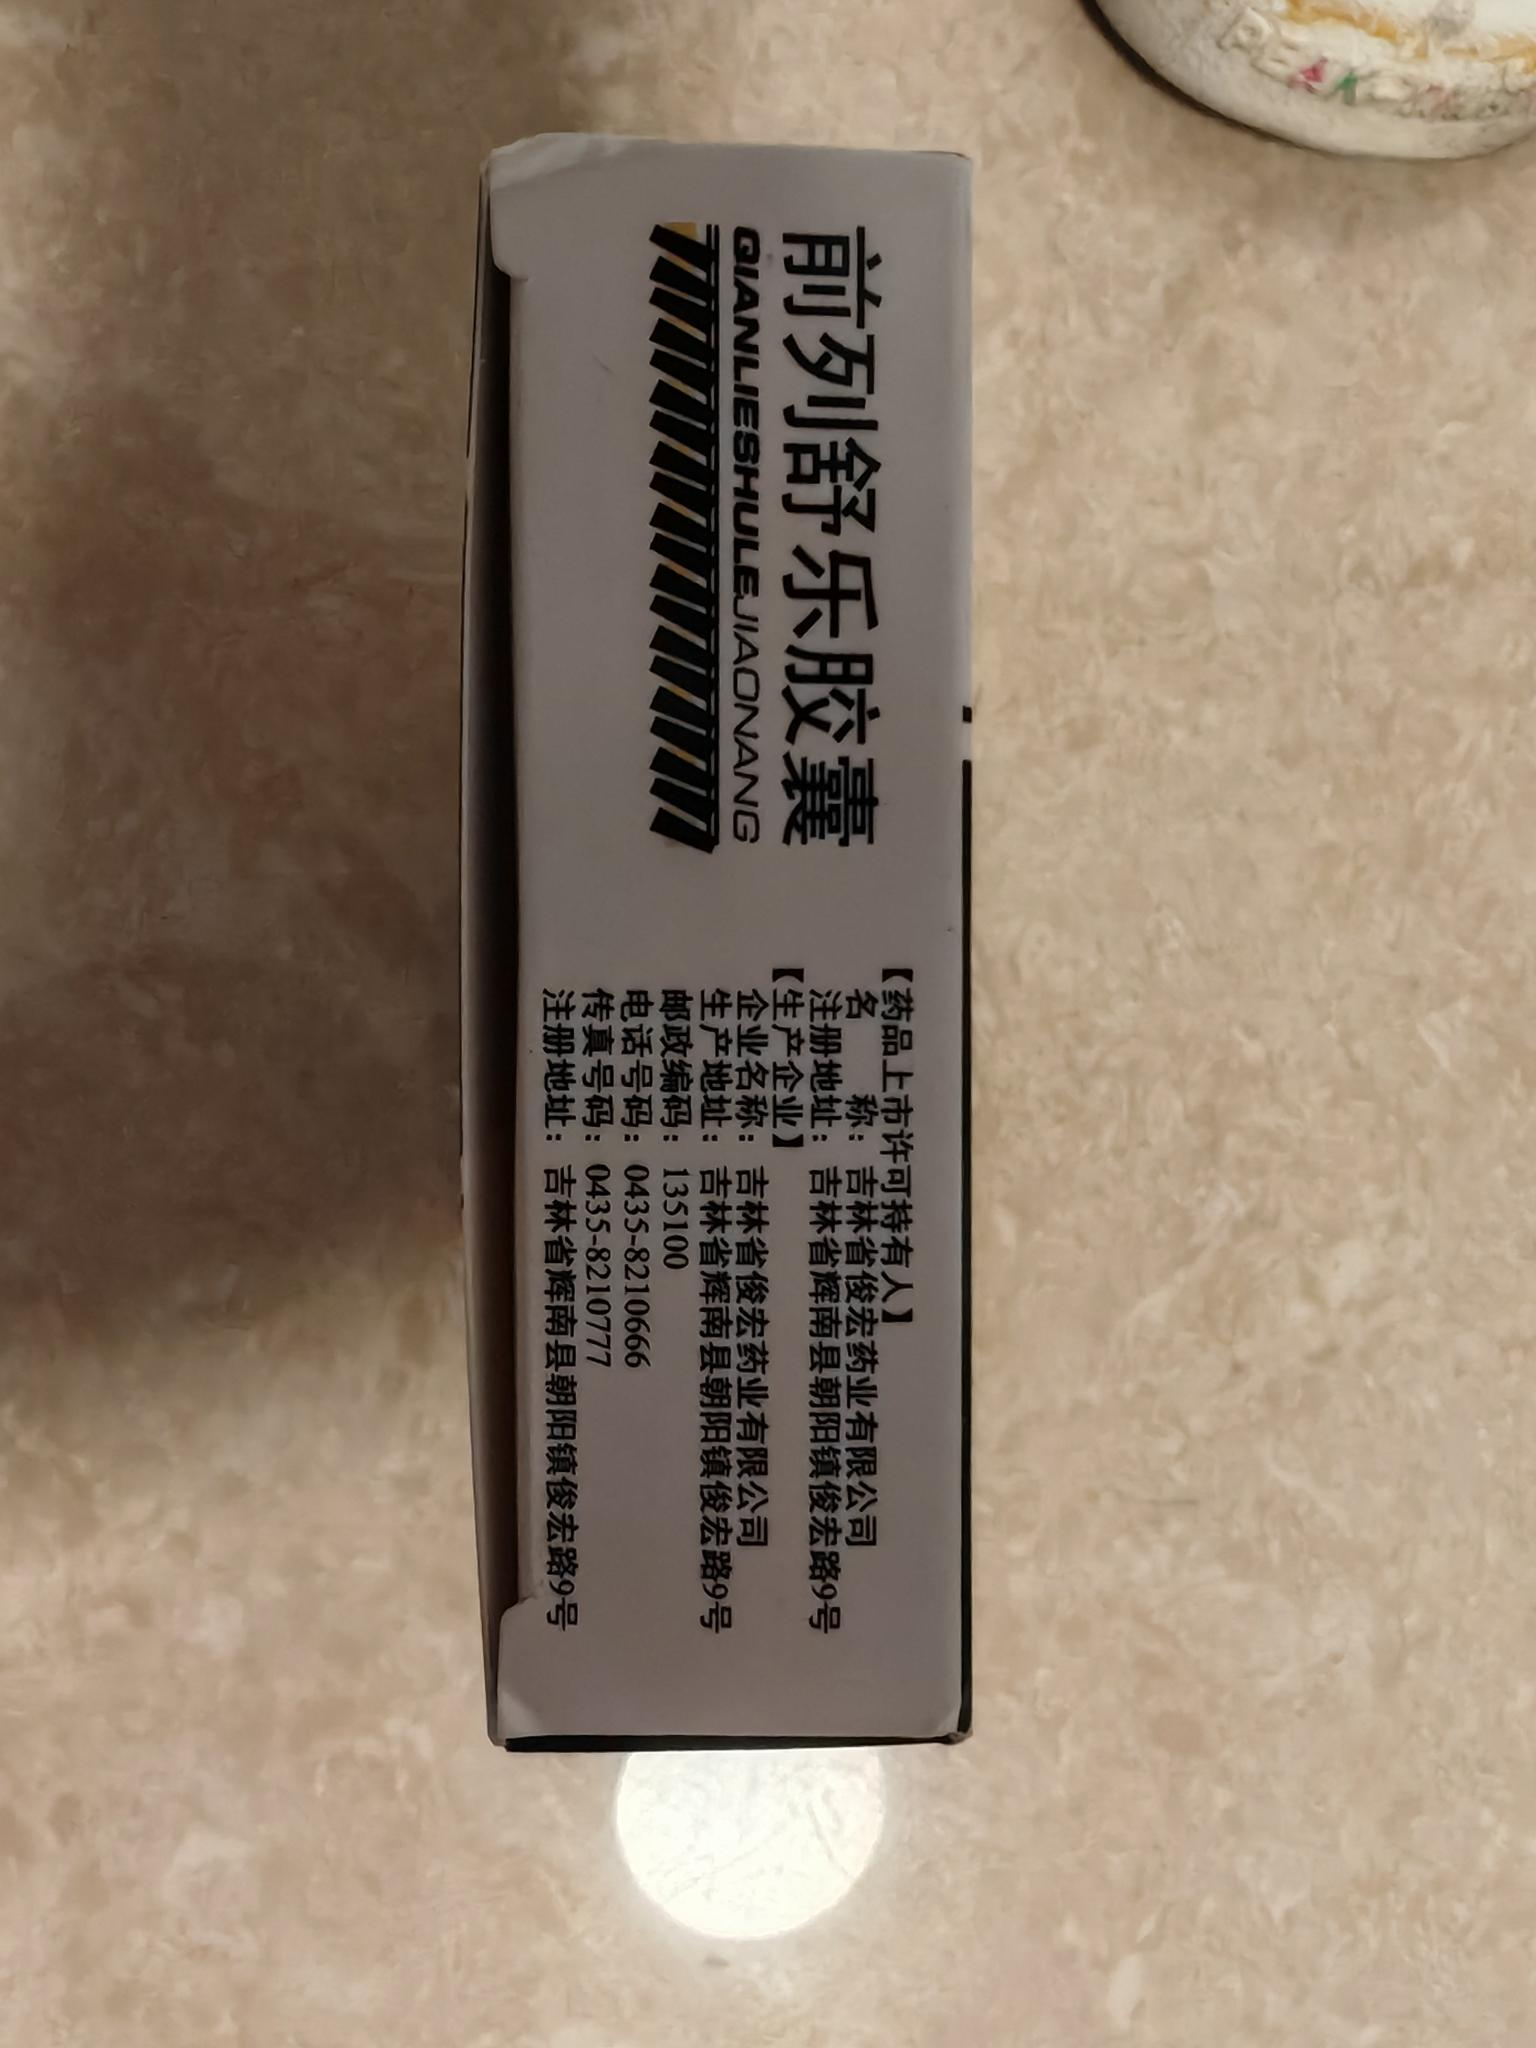Medicine2: (440, 113, 997, 1777)
